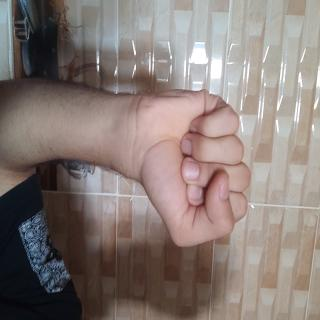SAD: (60, 84, 190, 264)
